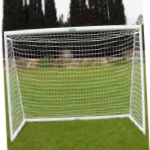goals: (3, 23, 150, 143)
